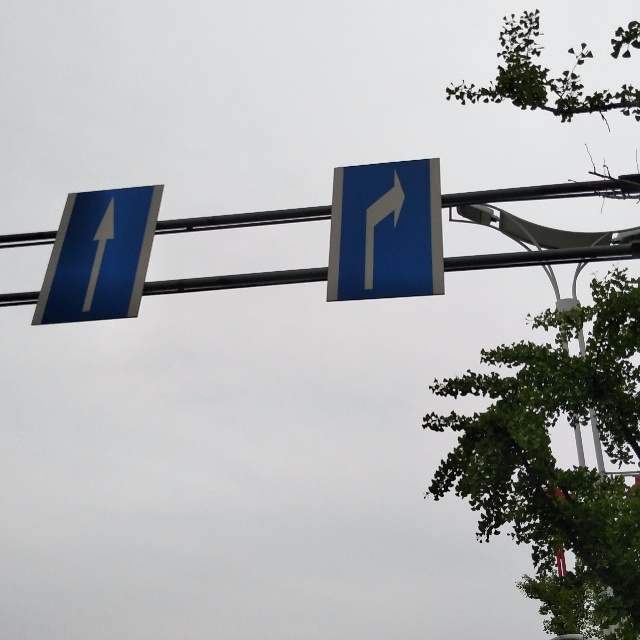right: (338, 166, 420, 294)
straight: (71, 187, 126, 318)
